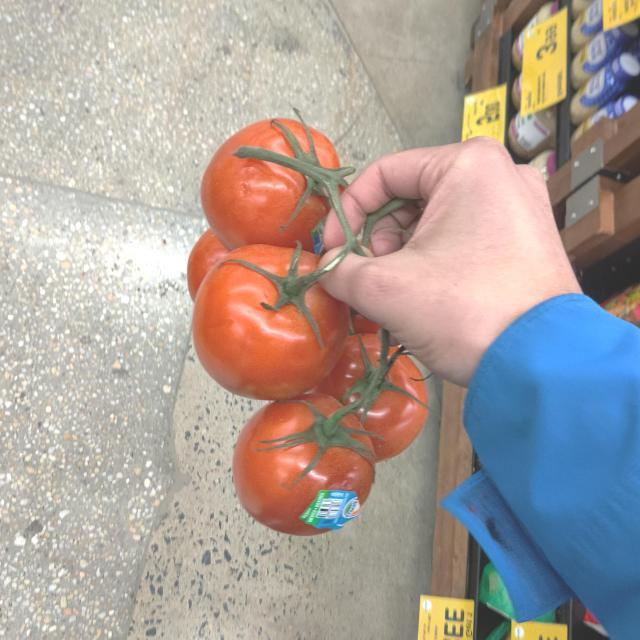tomato: (189, 117, 425, 538)
